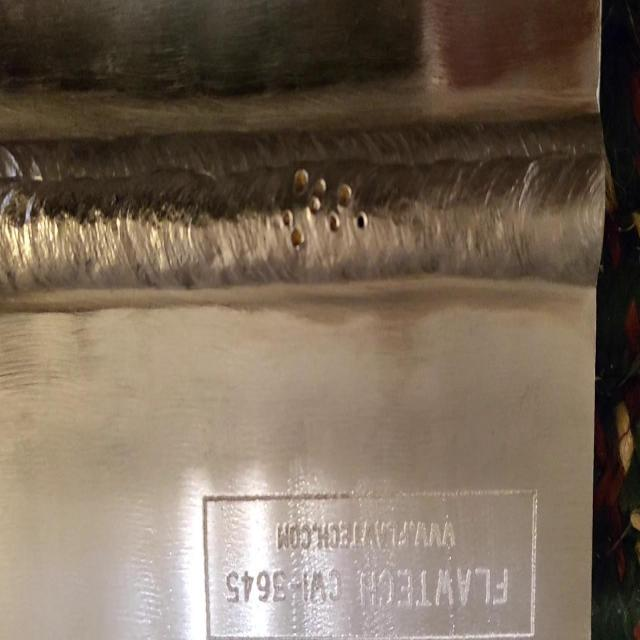Welding Line: (0, 137, 600, 286)
Workpiece: (2, 3, 595, 640)
porosity: (283, 168, 367, 251)
